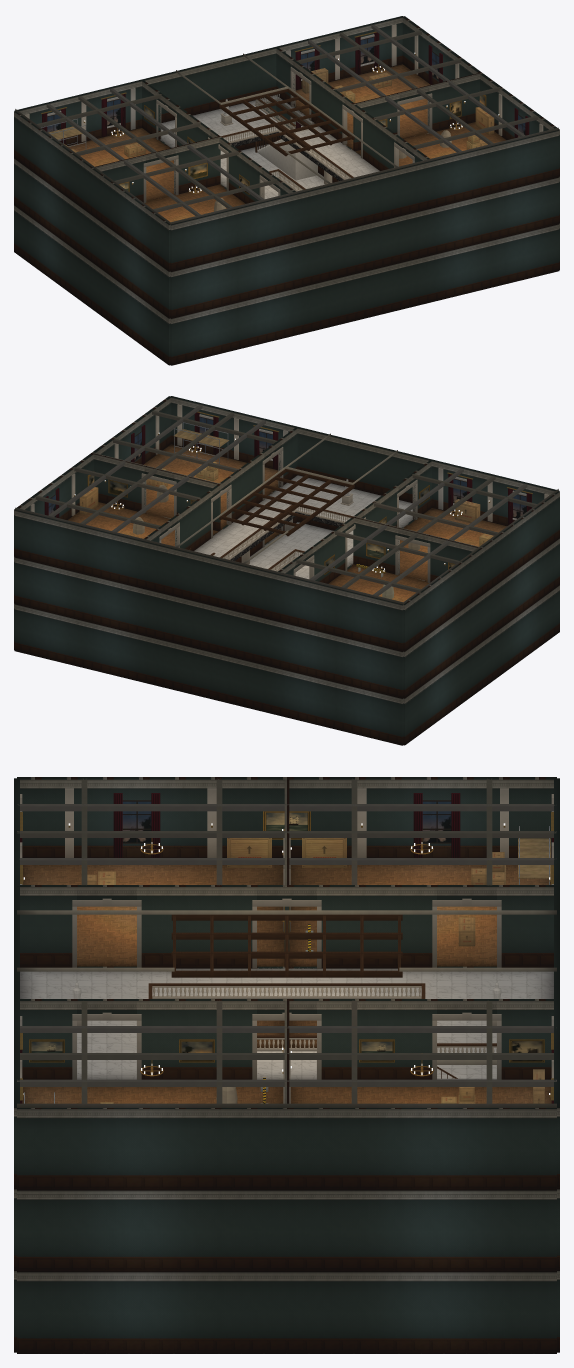
Rendered from manor.glb.
3 renders of one model, top to bottom at view 1: azimuth 30°, elevation 25°; view 2: azimuth 150°, elevation 25°; view 3: azimuth 270°, elevation 25°, orthographic. The views are drawn at different scales.
Parts seen in each view (by area): view 1: Map; view 2: Map; view 3: Map.
Boxes of the visible parts, x1,y1,x2,y2 form: Map: (14, 16, 559, 365); Map: (14, 396, 559, 745); Map: (14, 777, 559, 1353).
Bounding box in the file's own units: 52.4 × 18.3 × 36.4.
34 materials, 33 textured.
